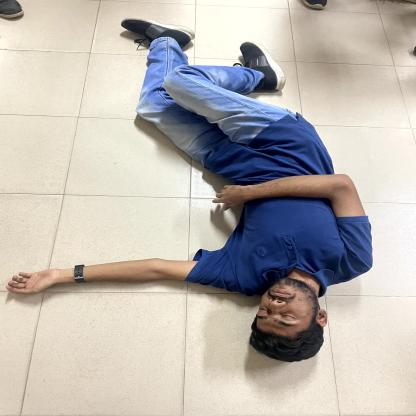hand: (6, 259, 198, 292)
